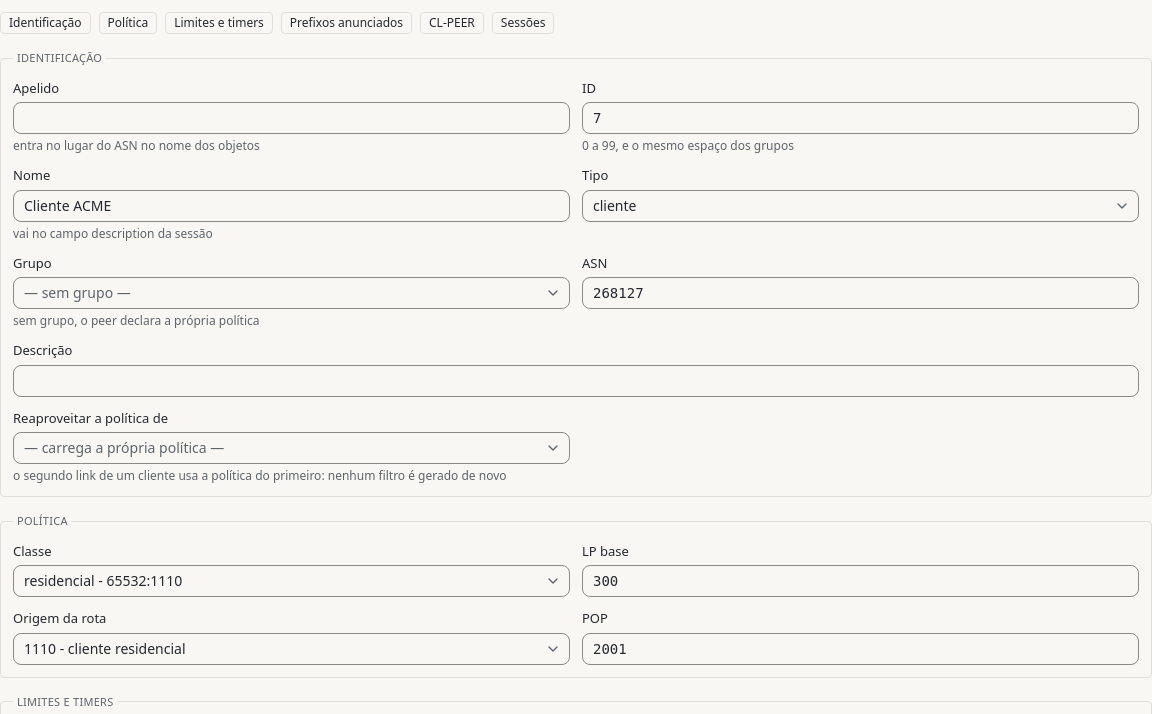
Test: o formulario do peer › escolher a origem deixa a nota, e nao esconde campo
Click the dropdown named "reaproveitar". click: (124, 448)
box: [13,432,570,464]
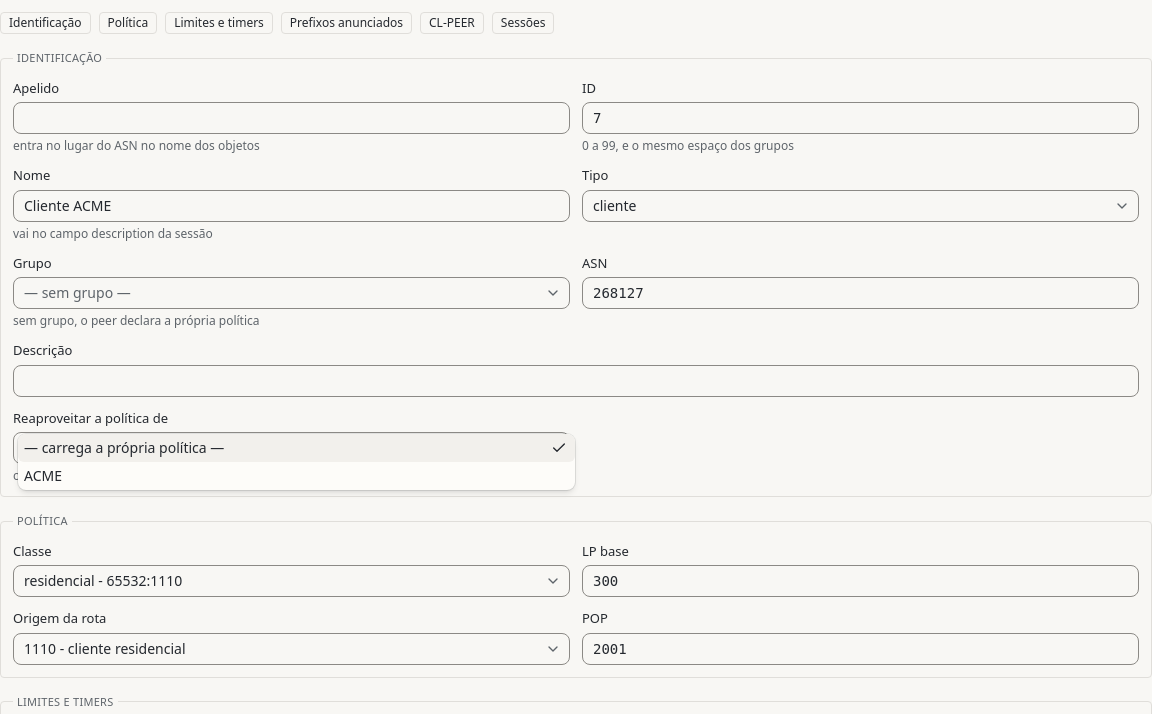
Click the option "ACME". click: (43, 476)
box: [24,466,62,485]
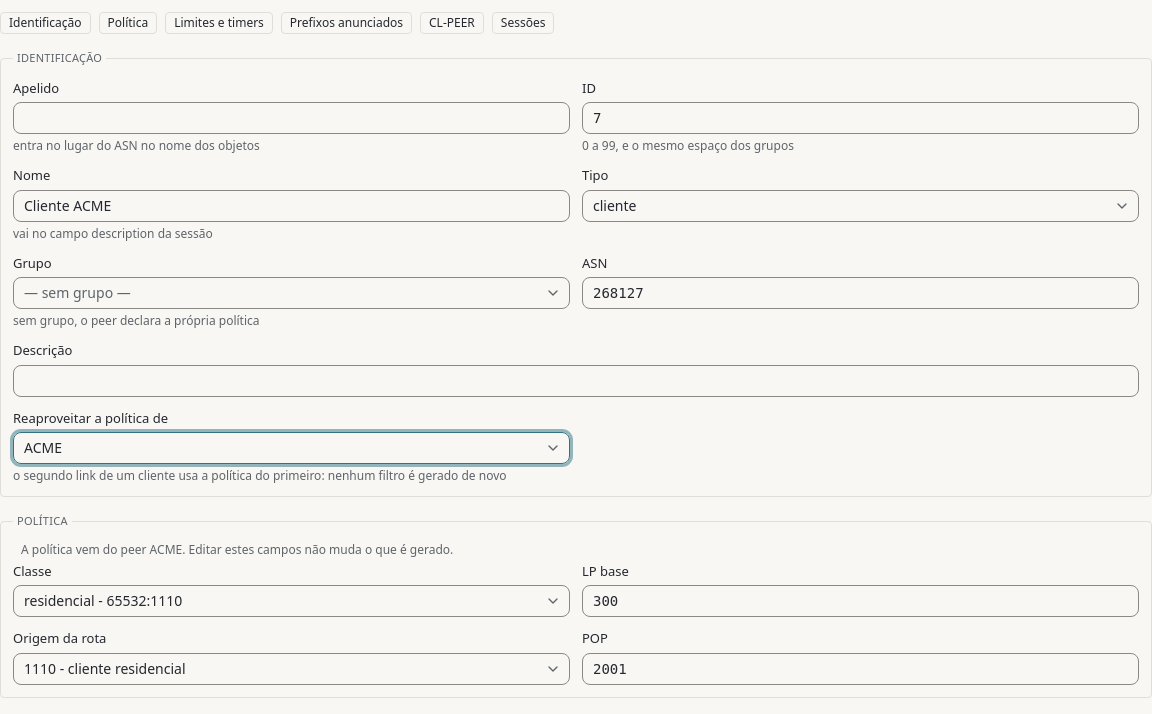
Expected: the field labelled "LP base" is shown, [582,585,1139,617]
Expected: the text "A política vem do peer" is shown, [21,540,453,558]
